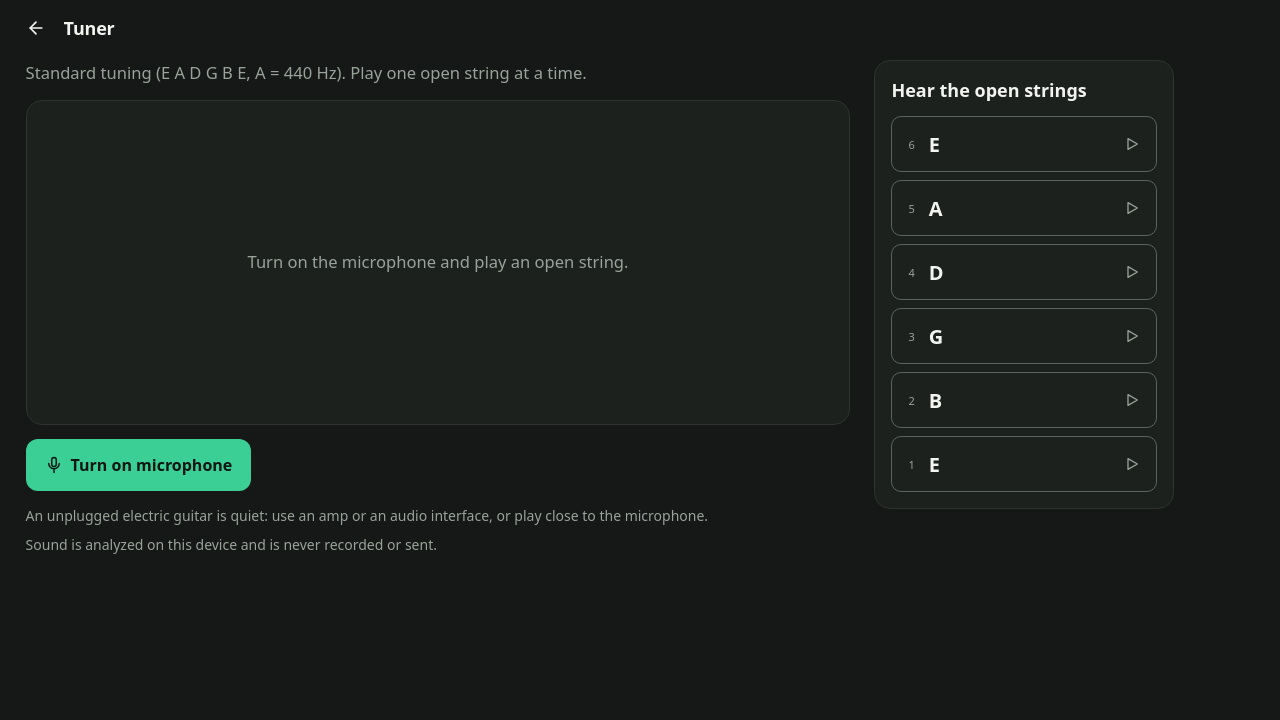
Test: tuner › explains when the browser cannot use the microphone
The image size is (1280, 720).
Click the button "Turn on microphone" at (138, 465), box 26,439 -> 251,491
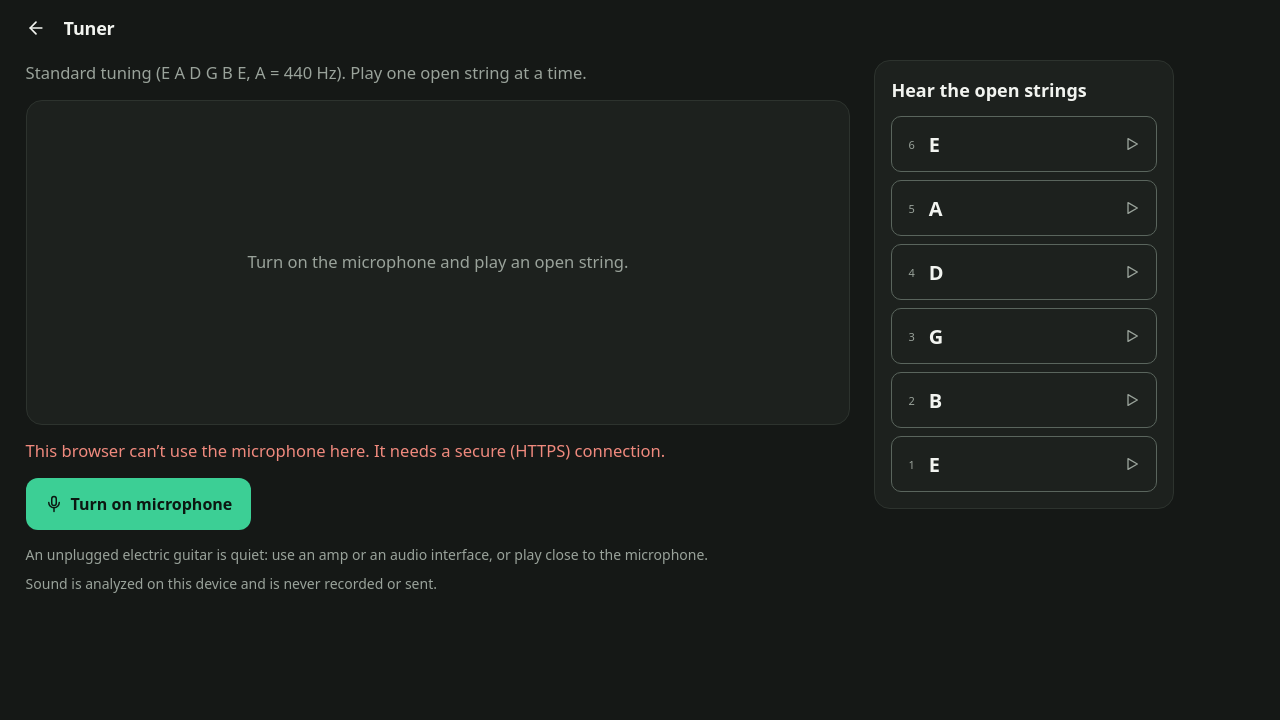
Check: the message shows "secure (HTTPS) connection", box 26,439 -> 665,462
